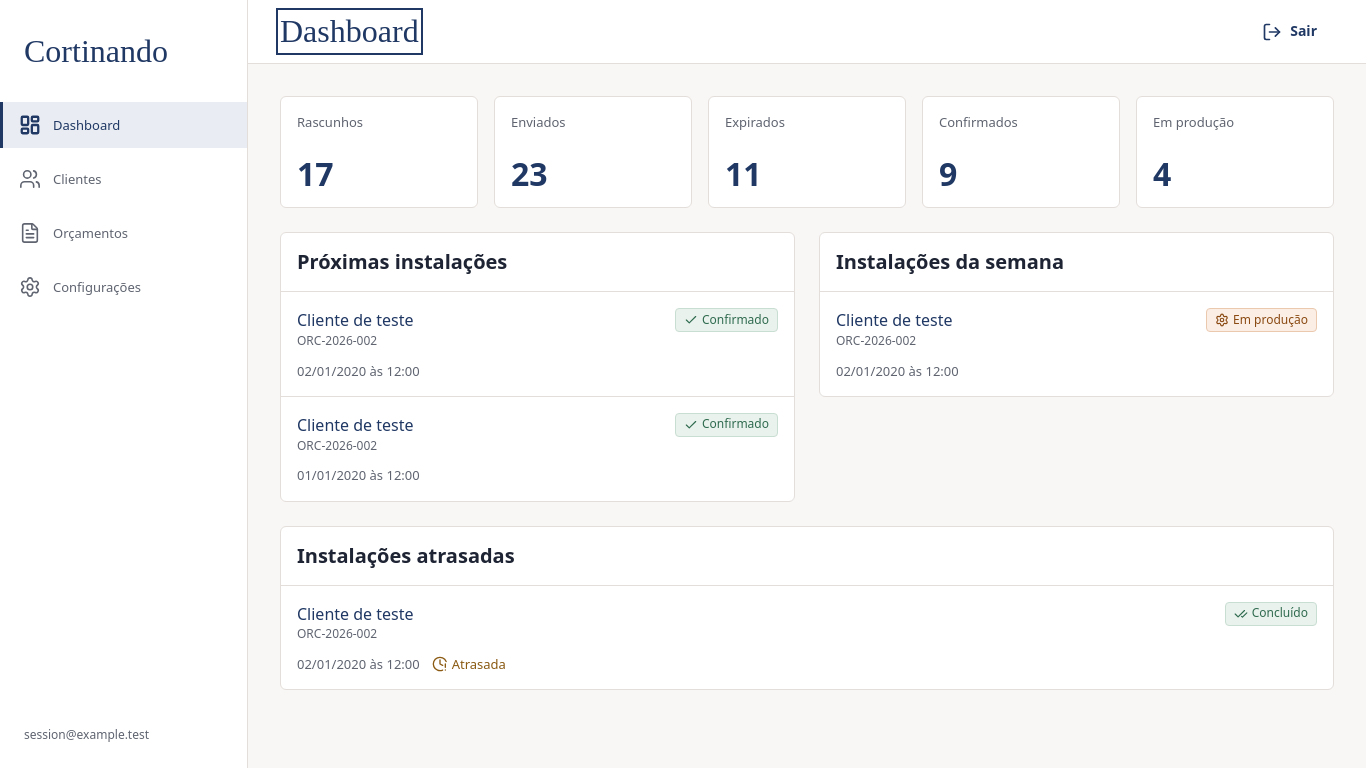
Test: navigates from Expirados to its exact filter
Step 1. Click the link "Expirados 11" → (807, 152), box [708,96,906,208]
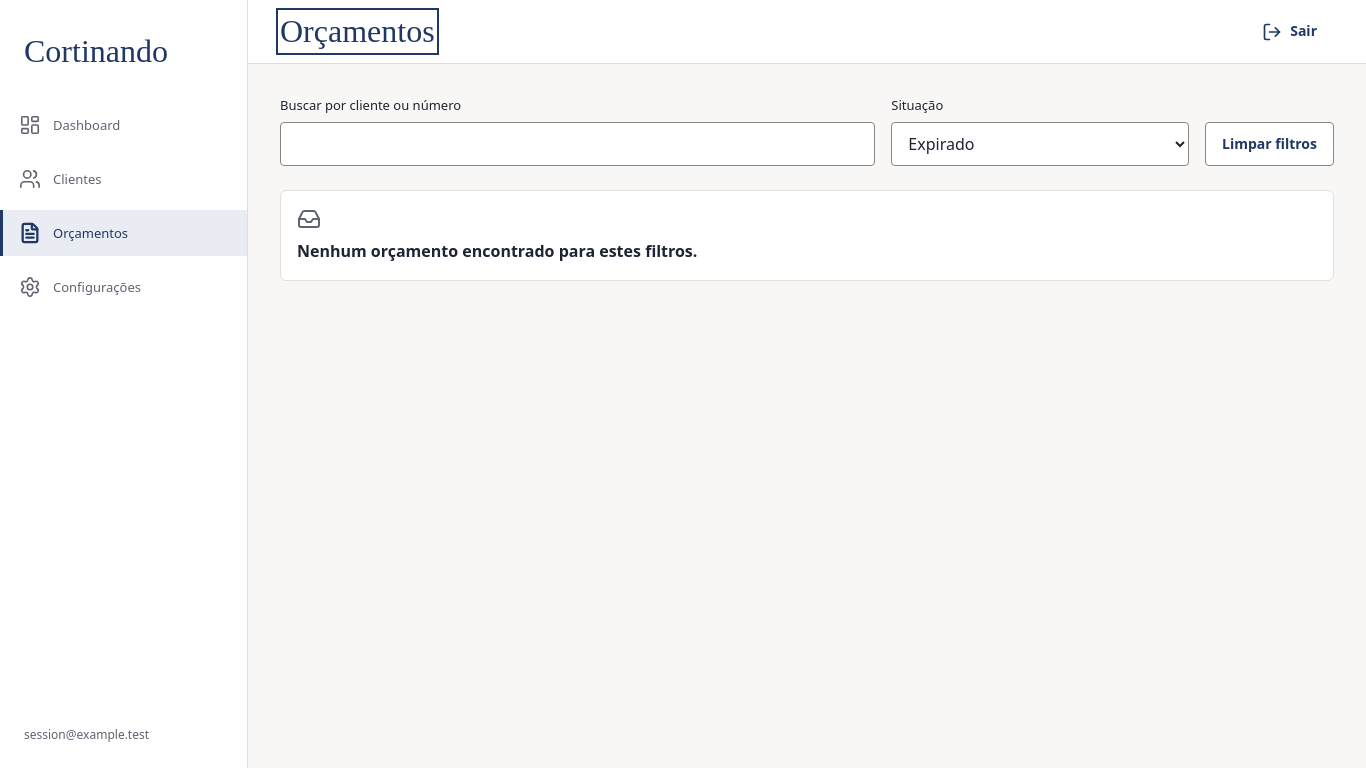
Check: the heading "Orçamentos" is shown, box [280,12,435,51]
